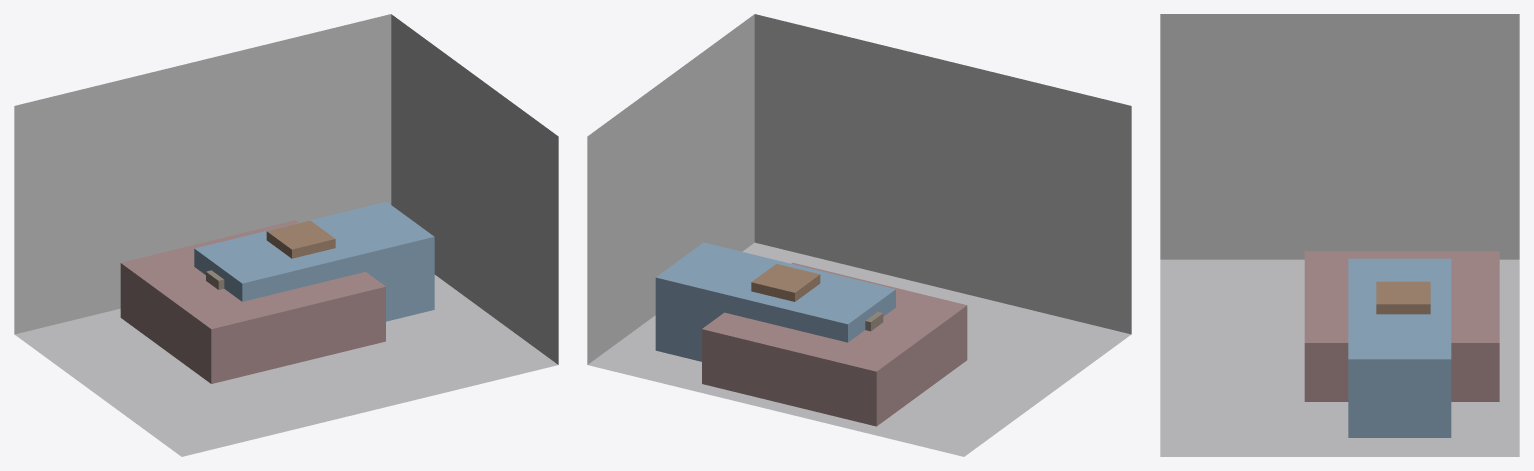
Rendered from optimised_layout.glb.
3 views of the same model, side by side, from view 1: azimuth 30°, elevation 25°; view 2: azimuth 150°, elevation 25°; view 3: azimuth 270°, elevation 25° (orthographic). The views are drawn at different scales.
Parts seen in each view (by area): view 1: room, bed, couch, chair; view 2: room, bed, couch, chair; view 3: room, couch, bed, chair.
Part boxes in pixels (<box>): room: <box>14,14,558,456</box>; bed: <box>120,220,385,383</box>; couch: <box>194,201,434,321</box>; chair: <box>266,220,335,258</box>; room: <box>587,14,1131,456</box>; bed: <box>702,262,967,426</box>; couch: <box>655,242,895,361</box>; chair: <box>751,264,820,301</box>; room: <box>1160,14,1519,456</box>; couch: <box>1348,258,1451,437</box>; bed: <box>1304,251,1499,401</box>; chair: <box>1376,281,1430,314</box>.
Bounding box in the file's own units: 4.31 × 2.5 × 3.32.
